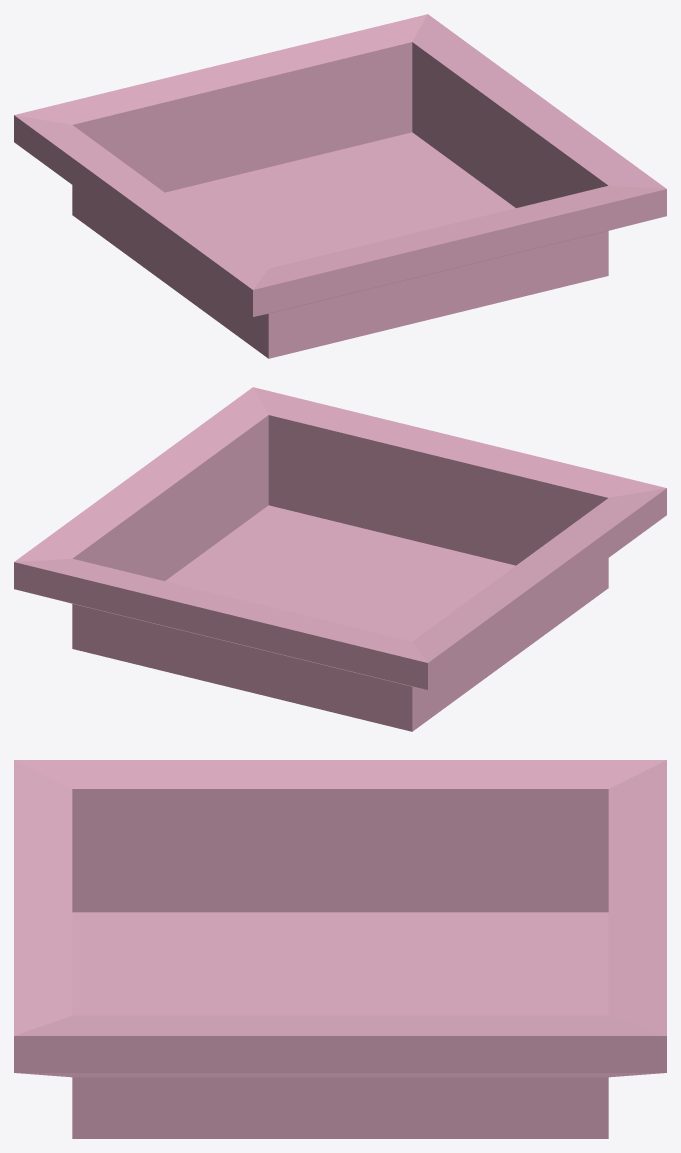
Rendered from Tower.glb.
The picture shows the model from 3 angles, top to bottom: view 1: azimuth 30°, elevation 25°; view 2: azimuth 150°, elevation 25°; view 3: azimuth 270°, elevation 25°; orthographic projection. The views are drawn at different scales.
Visible parts, largest first — view 1: tower-base; view 2: tower-base; view 3: tower-base.
Boxes of the visible parts, box(x1,y1,x2,y2) form: tower-base: box(14, 14, 666, 358); tower-base: box(14, 387, 666, 731); tower-base: box(14, 760, 666, 1138).
Size of the model in its own units: 1.8 by 0.3884 by 1.8.
